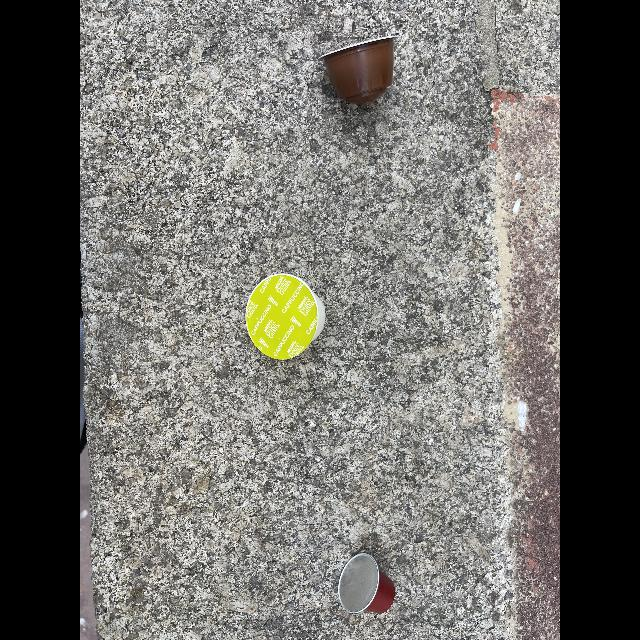intact_capsule: (240, 270, 328, 362), (314, 32, 404, 108), (336, 550, 398, 624)
